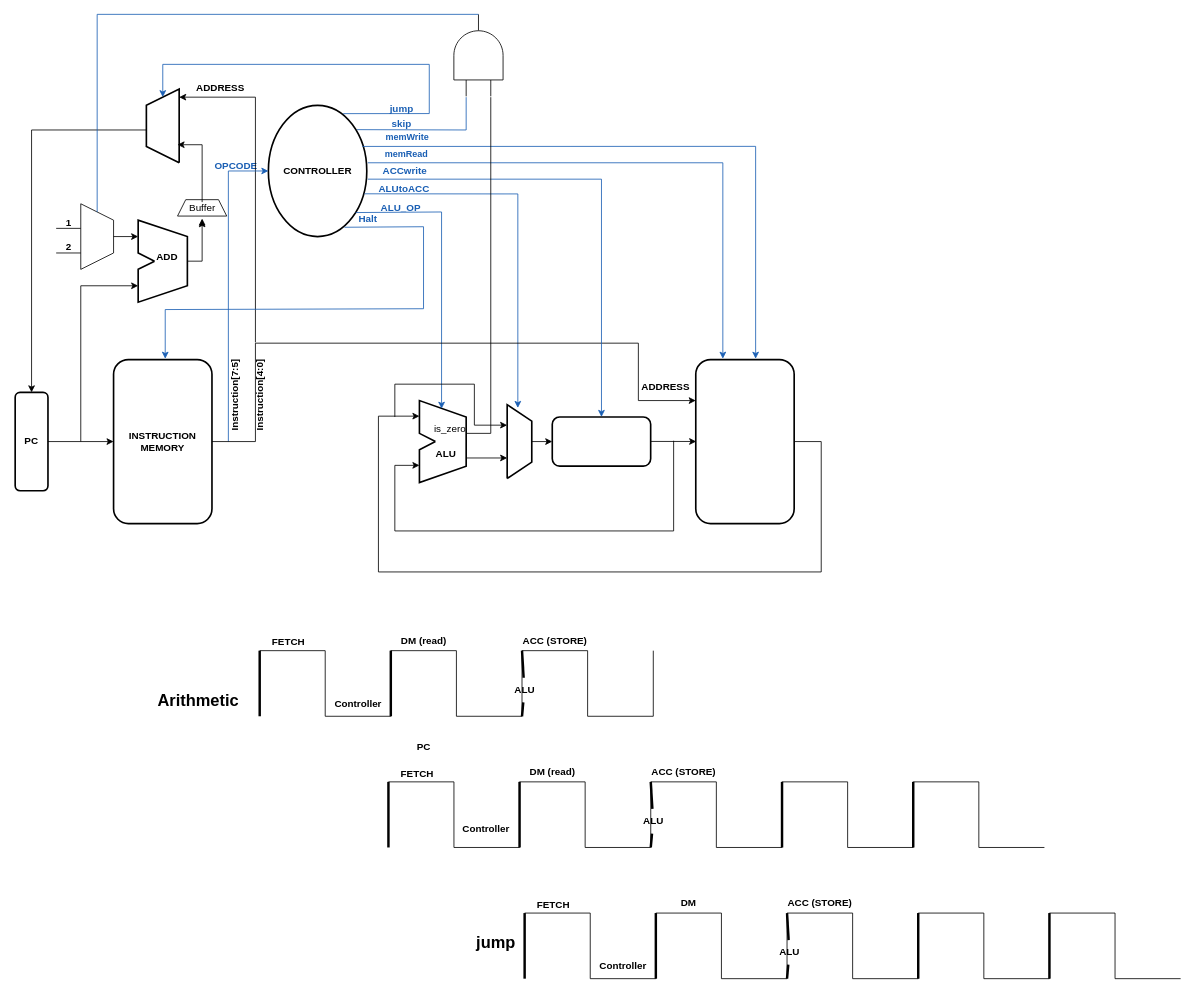
Some shapes in this 1196 by 995 pixel diagram are drawn without their labels. Here are the shapes that lost their labels. From the top down, the centre of each, then its label:
(x=601, y=441): ACCUMULATOR REGISTER
(x=745, y=441): DATA MEMORY
